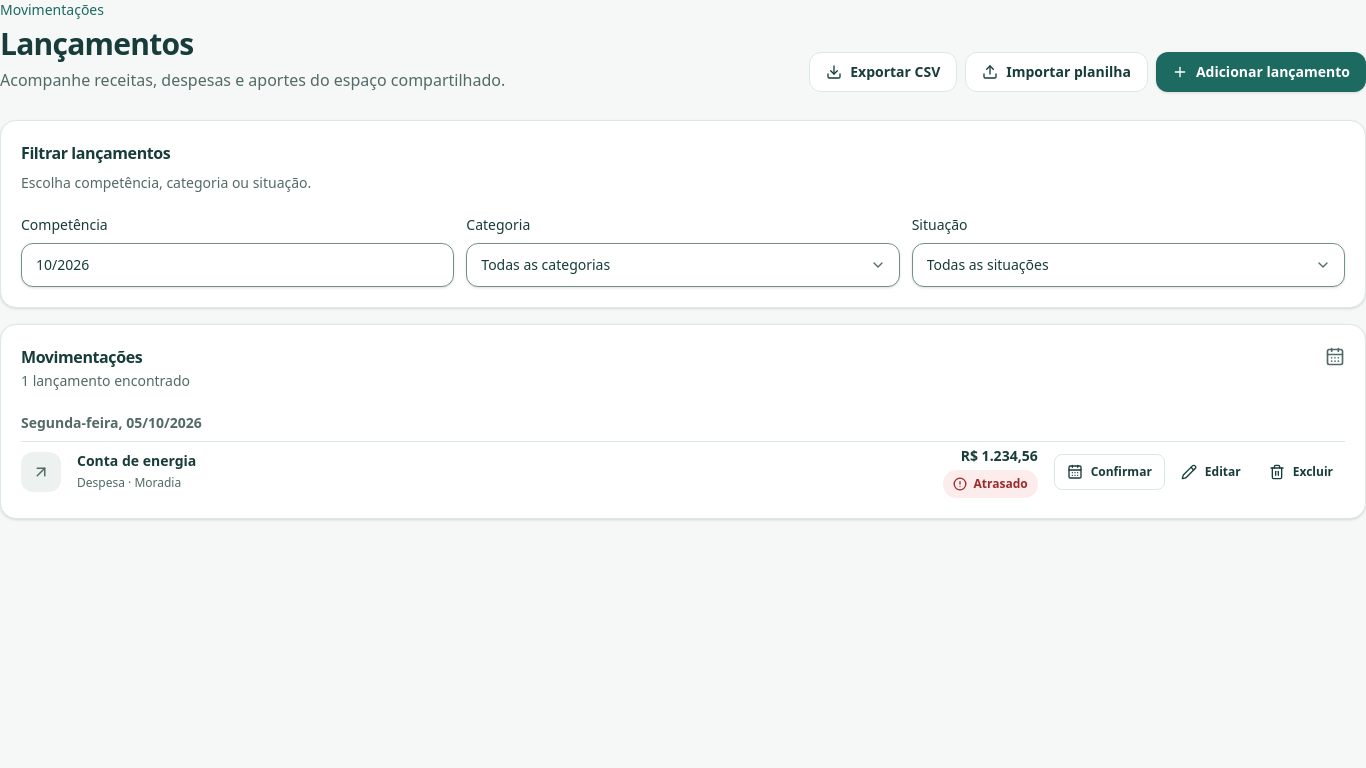
Scenario: financial entry pages › confirms a different realized amount in a later month and can undo it
The image size is (1366, 768).
Expected: the list item "Conta de energia" is shown, [77, 451, 196, 470]
Click the button with aria-label "Confirmar Conta de energia": (1109, 472) [1054, 454, 1165, 490]
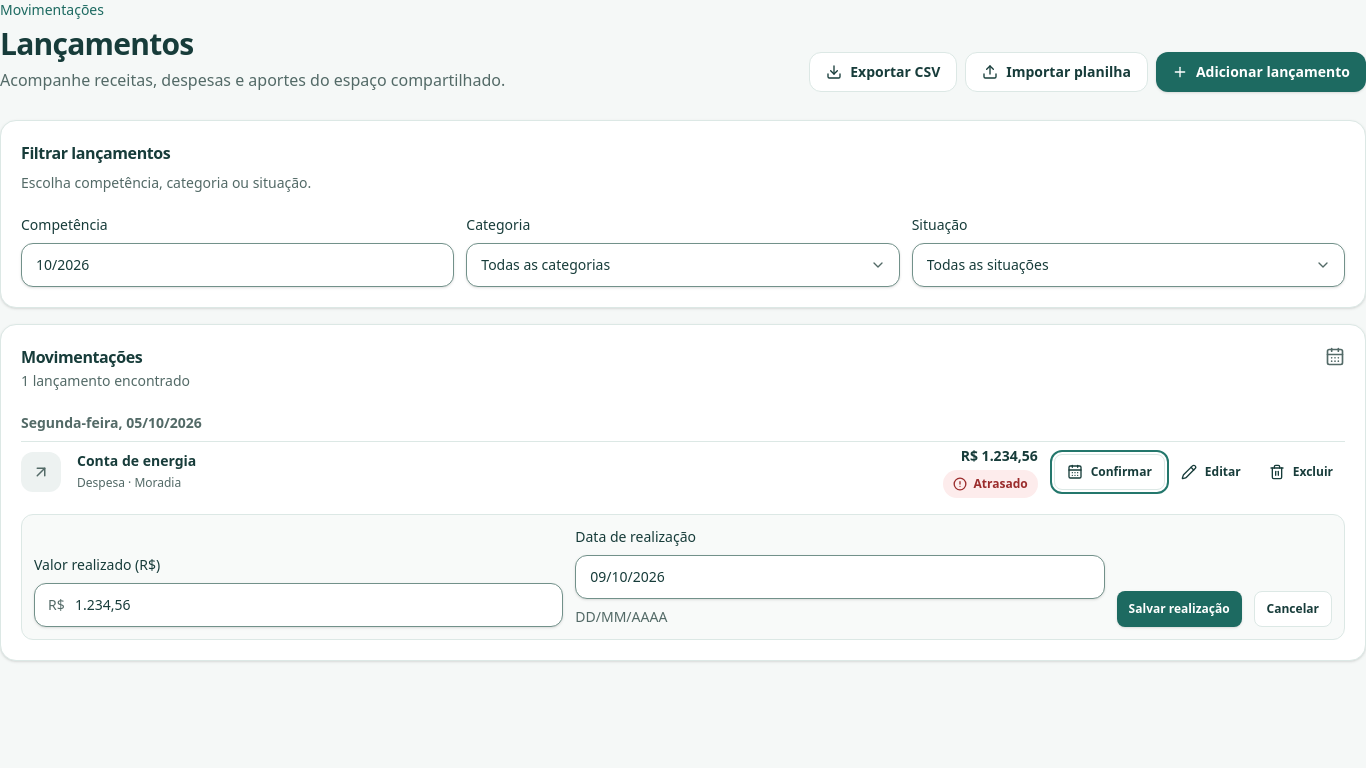
Replace the text in the field labelled "Valor realizado (R$)" with "97,00": (299, 605) [34, 583, 563, 627]
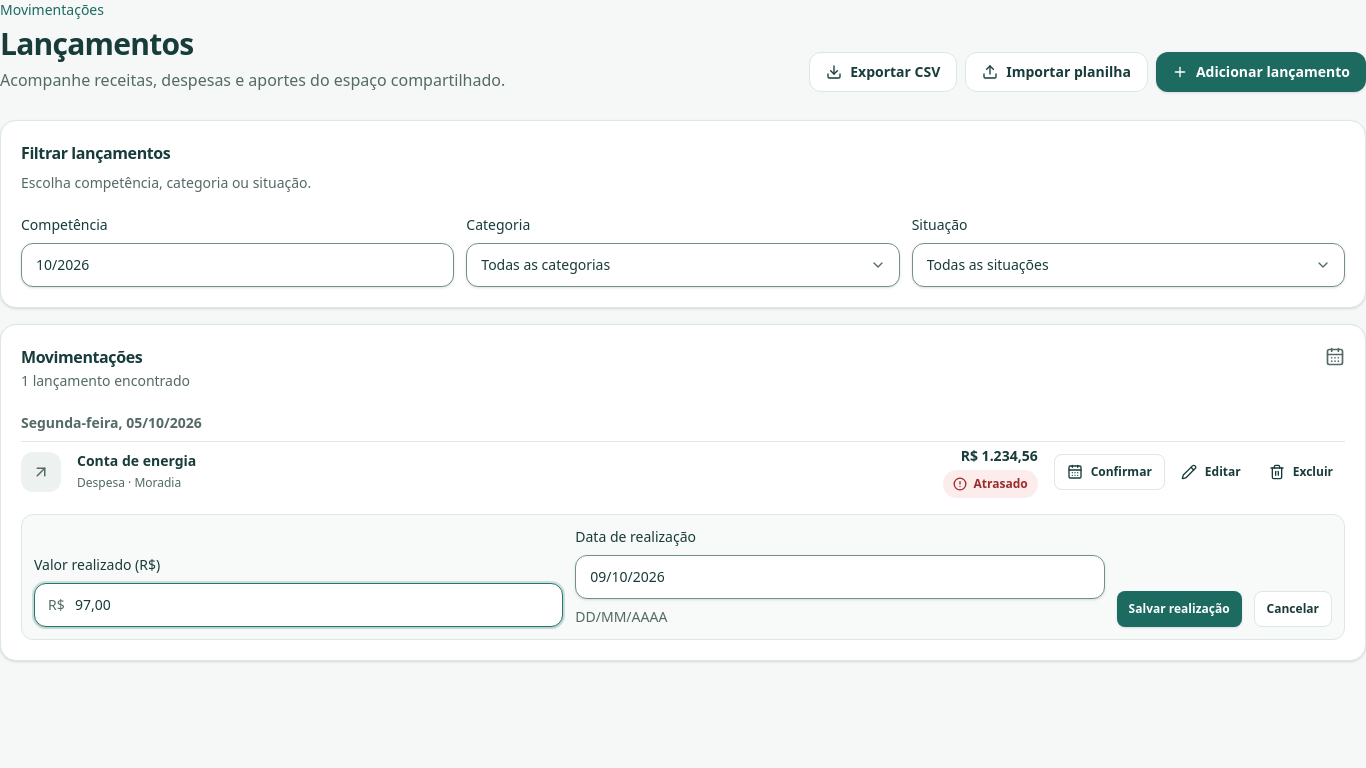
Replace the text in the field labelled "Data de realização" with "02/11/2026": (840, 577) [575, 555, 1105, 599]
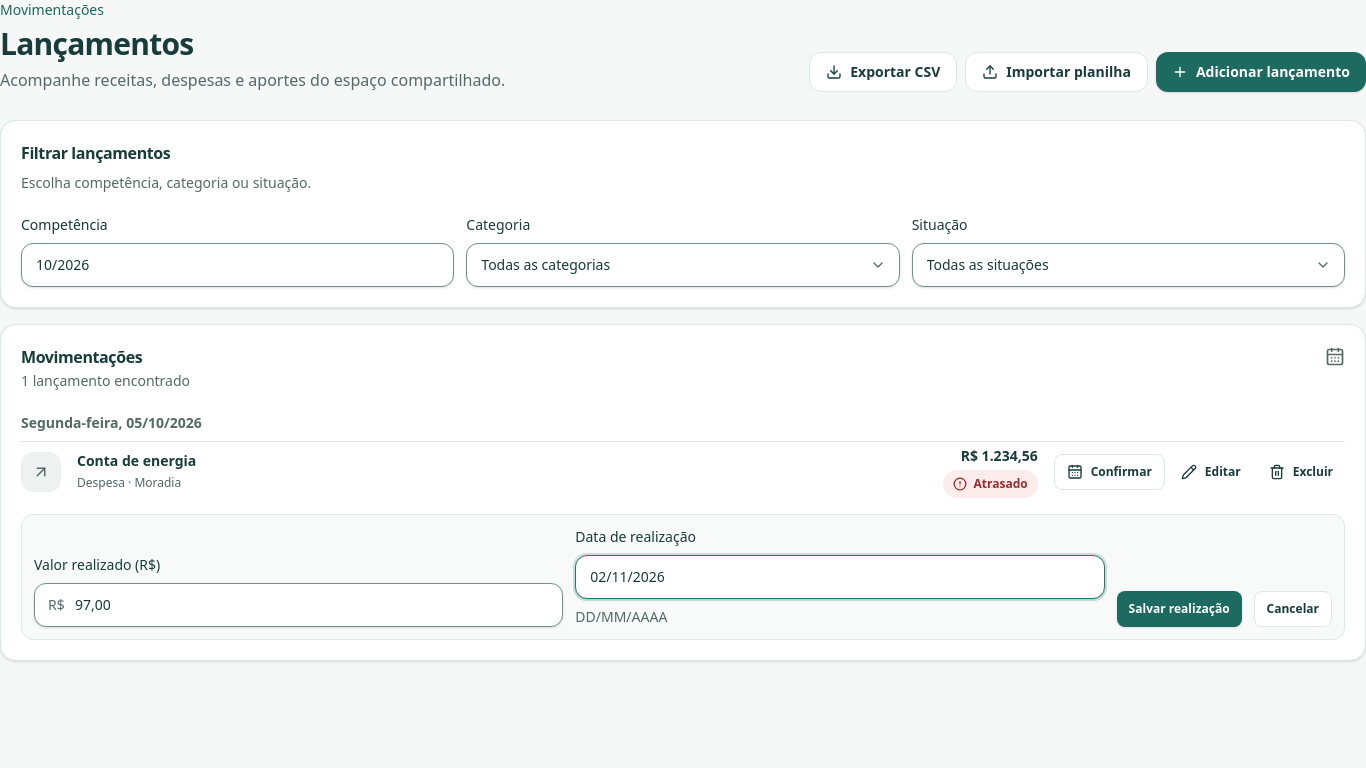
Click the button "Salvar realização": (1179, 609) [1117, 591, 1242, 627]
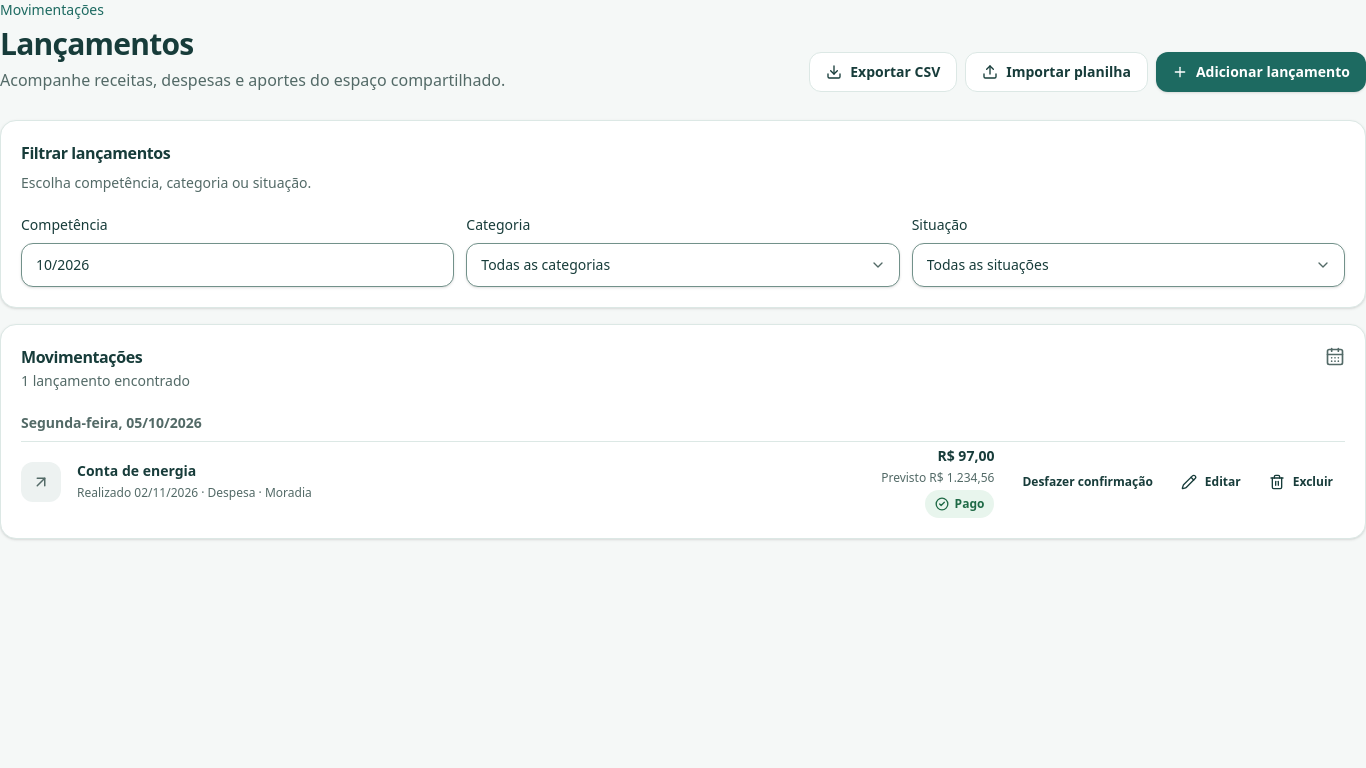
Expected: the list item "Conta de energia" shows "Realizado 02/11/2026", [77, 484, 208, 501]
Expected: the element named "Situação: Pago" is shown, [925, 490, 994, 518]
Click the button with aria-label "Desfazer confirmação Conta de energia": (1088, 482) [1010, 464, 1165, 500]
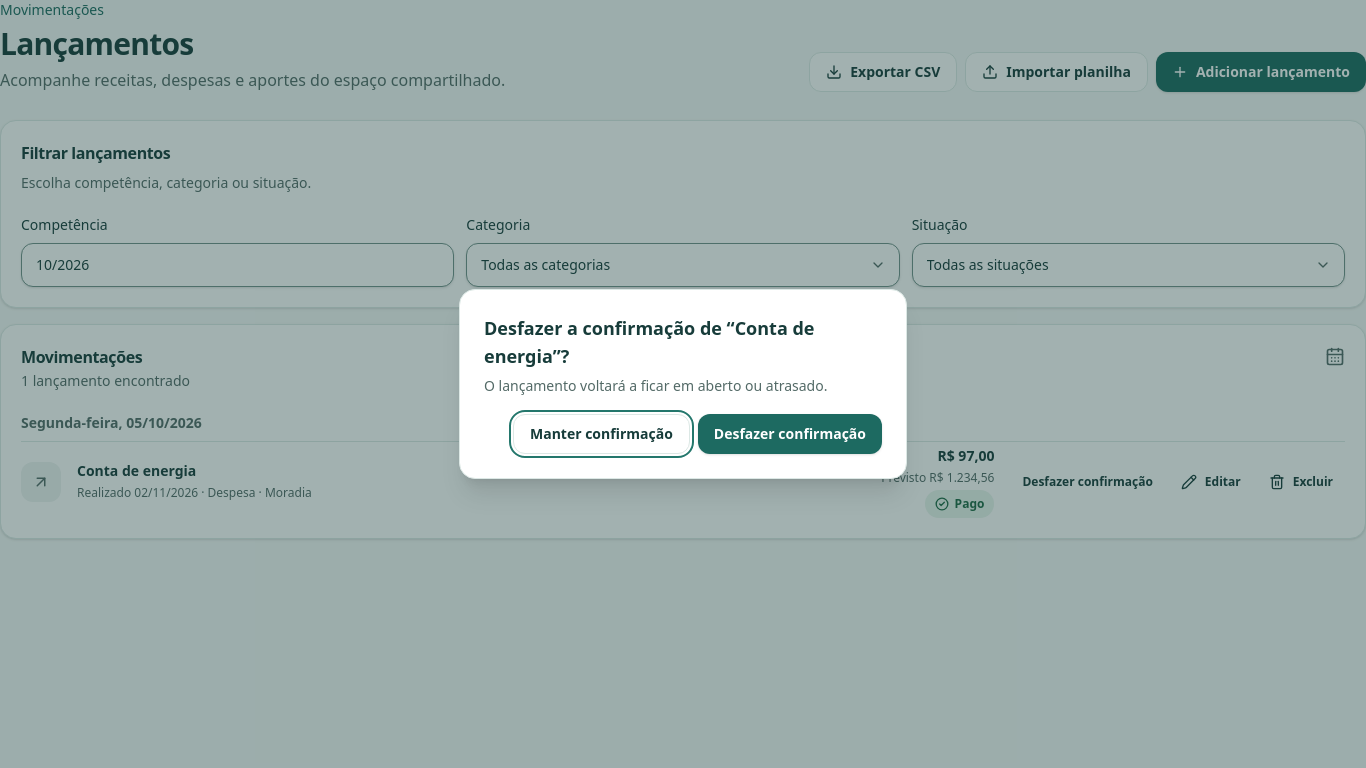
Click the button "Desfazer confirmação": (790, 434) [698, 414, 882, 454]
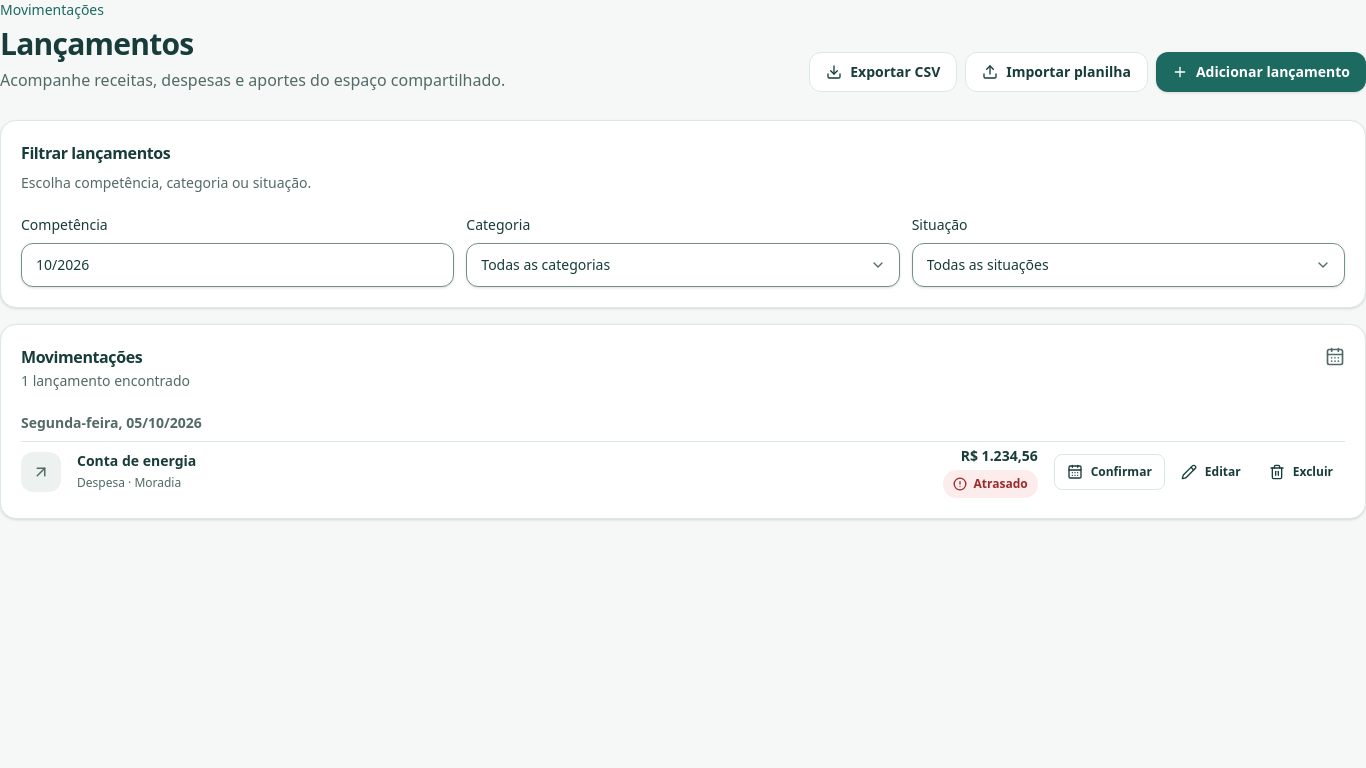
Expected: the element named "Situação: Atrasado" is shown, [944, 470, 1038, 498]
Expected: the list item "Conta de energia" no longer shows "Realizado 02/11/2026", [21, 446, 1345, 498]
